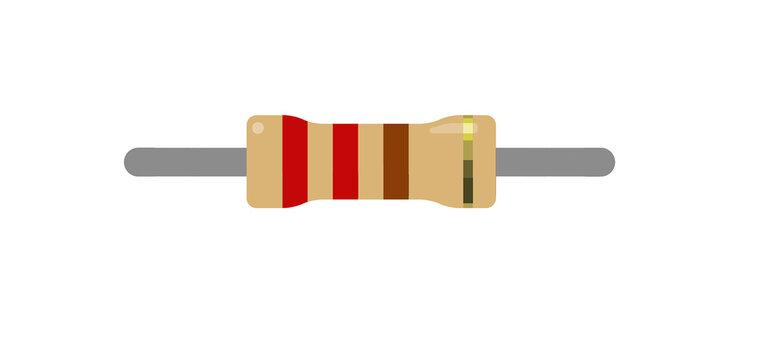resistor: (246, 111, 498, 212)
